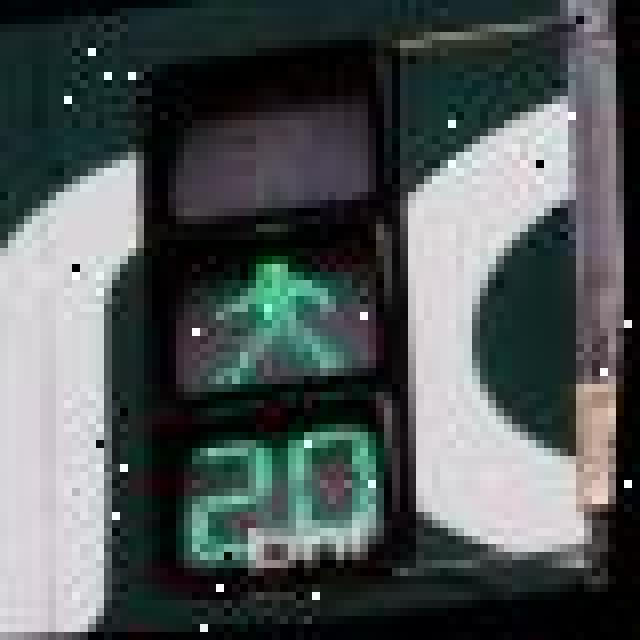greenlight: (96, 40, 408, 432)
